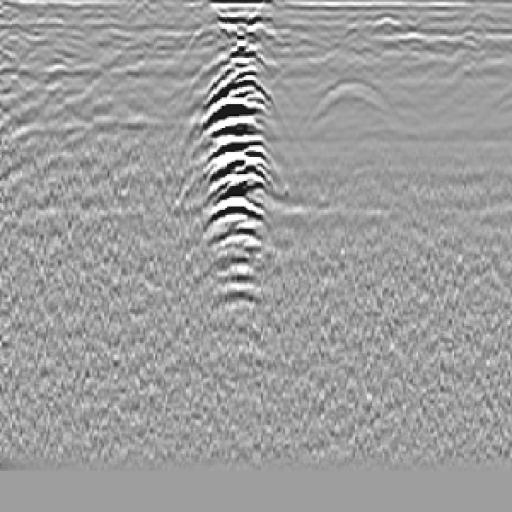metalic: (170, 12, 309, 338)
nonmetalic: (299, 68, 410, 166)
